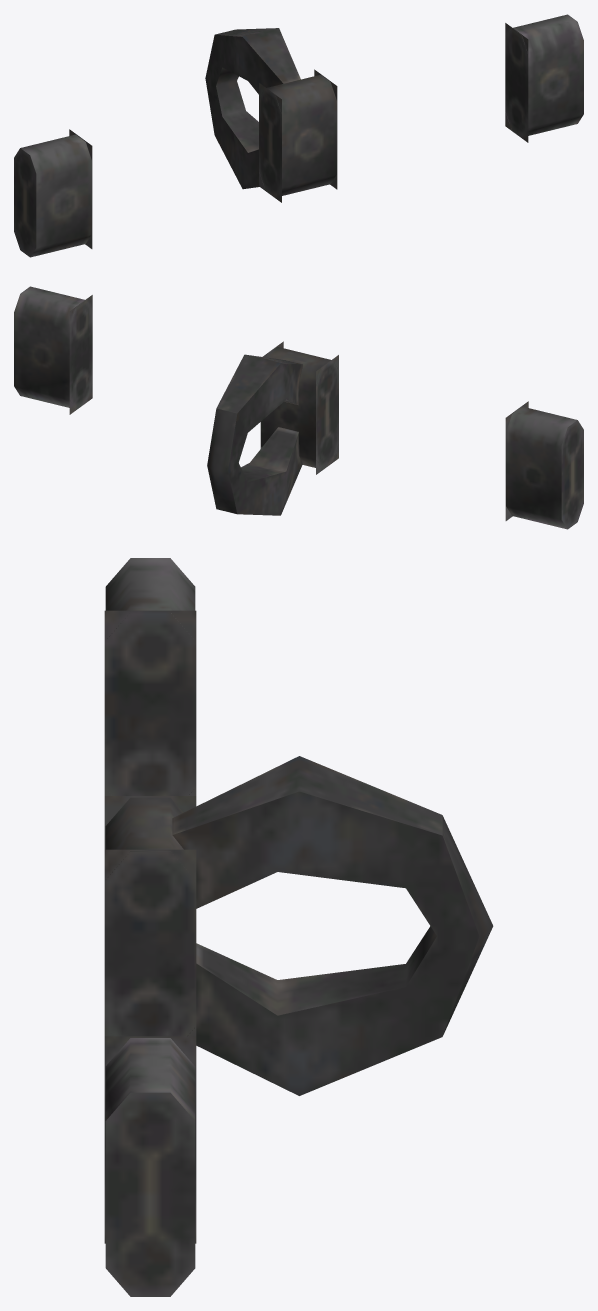
3 views of the same model, one above another, from view 1: azimuth 30°, elevation 25°; view 2: azimuth 150°, elevation 25°; view 3: azimuth 270°, elevation 25° (orthographic). The views are drawn at different scales.
Visible parts, largest first — view 1: set_0_group_0; view 2: set_0_group_0; view 3: set_0_group_0.
Part boxes in pixels (<box>): set_0_group_0: <box>14,14,583,257</box>; set_0_group_0: <box>14,286,583,529</box>; set_0_group_0: <box>104,558,493,1296</box>.
Bounding box in the file's own units: 0.4511 × 0.1199 × 0.1387.
1 material, 1 textured.
